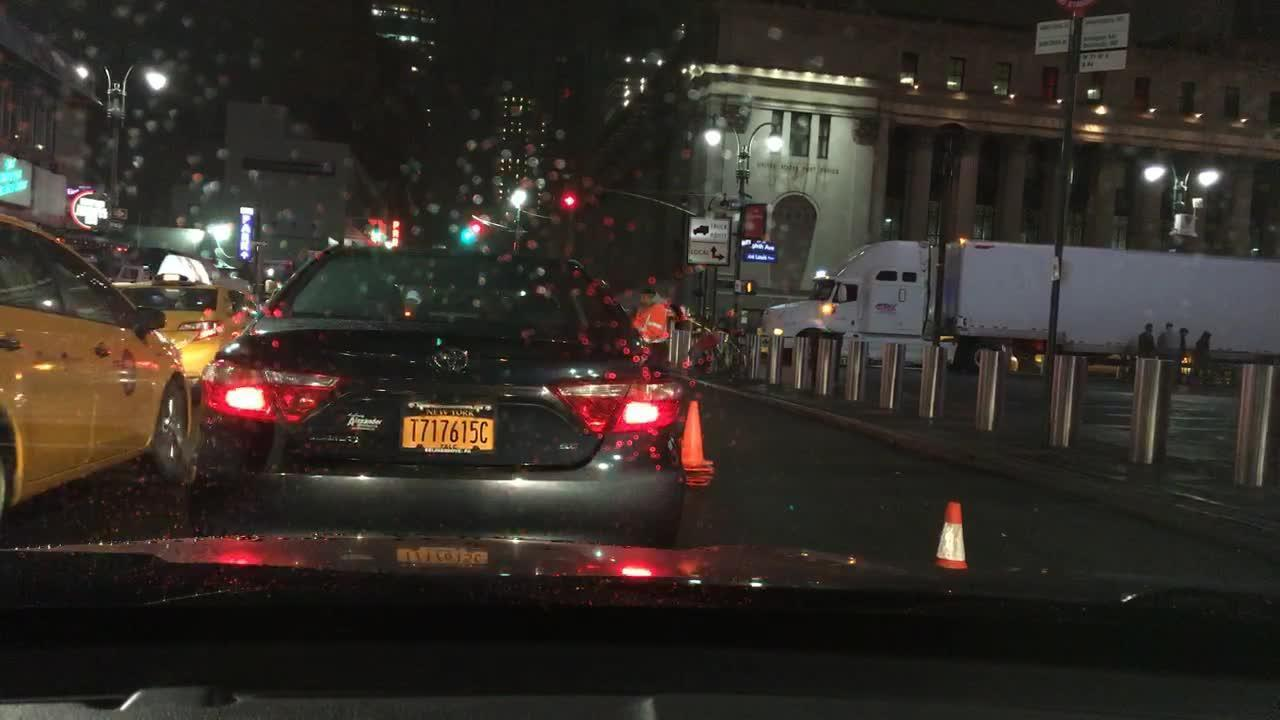Toyota: (432, 342, 475, 373)
